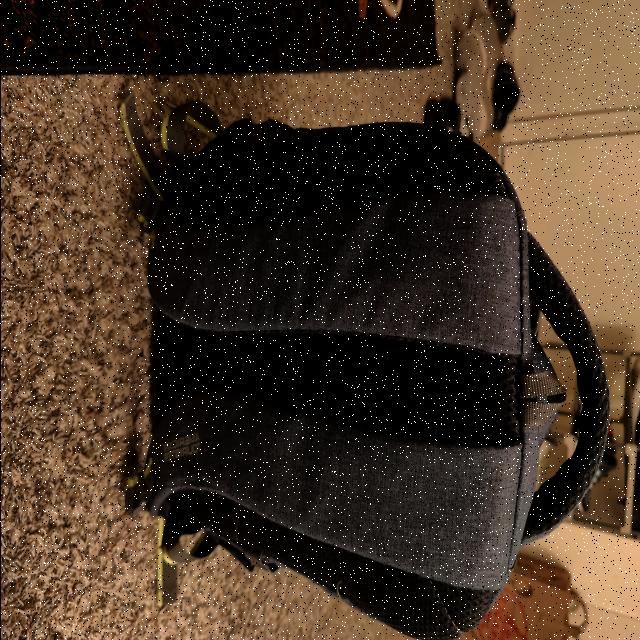bag: (147, 116, 610, 628)
